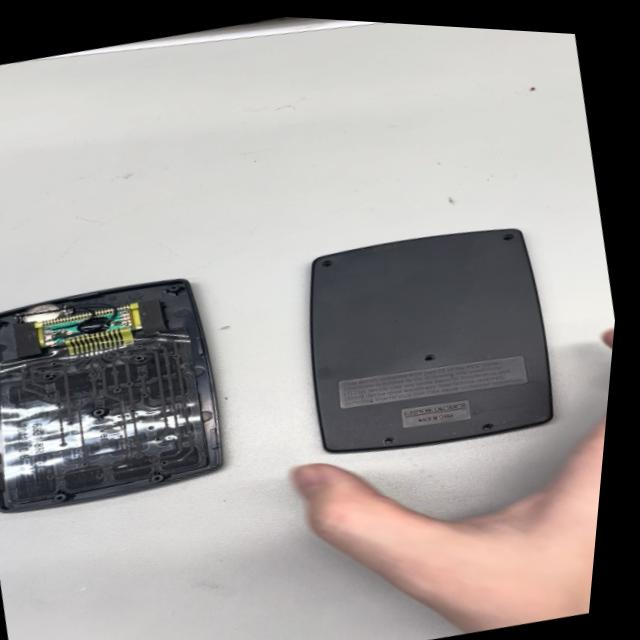back_cover: (277, 200, 581, 481)
front_panel: (0, 253, 256, 532)
